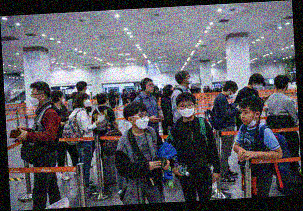mask_weared_incorrect: (241, 107, 256, 125)
with_mask: (134, 111, 150, 130), (179, 101, 196, 117), (30, 90, 41, 108), (83, 96, 92, 108), (227, 91, 238, 100), (186, 75, 194, 85), (253, 83, 263, 90), (60, 96, 67, 105)
without_mask: (145, 82, 155, 94)
